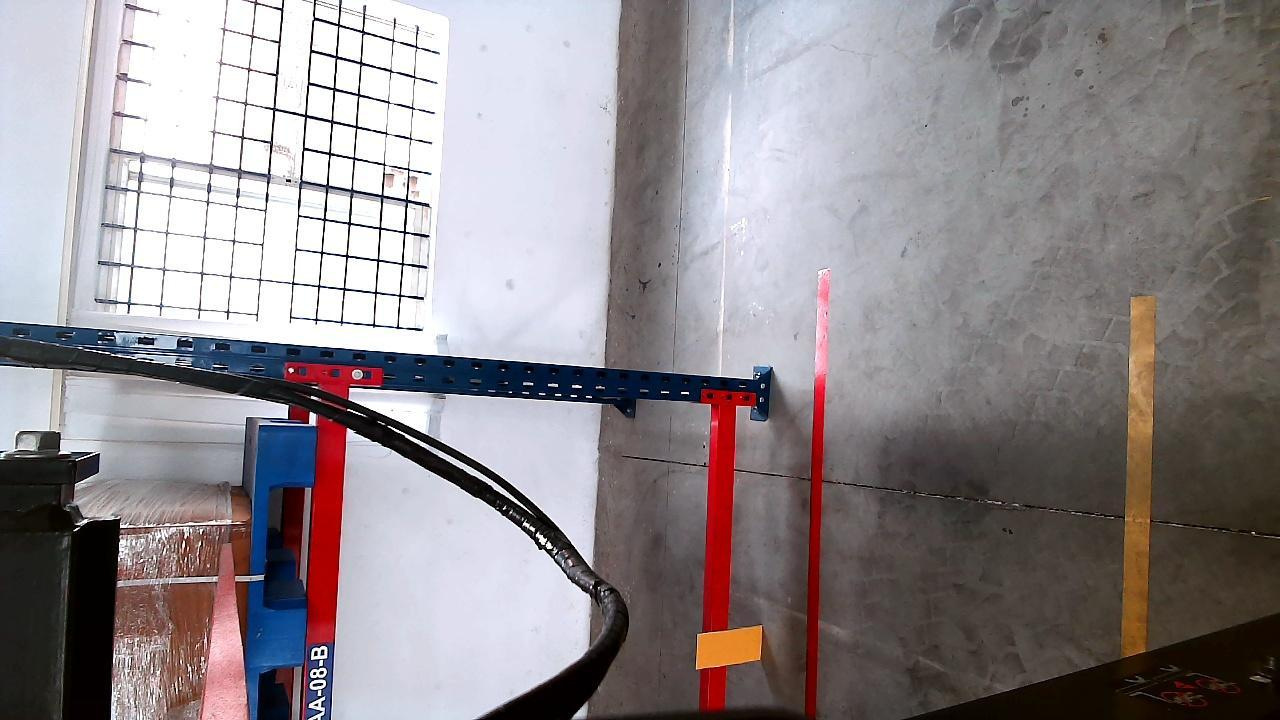red_line: (805, 273, 829, 720)
yellow_line: (1124, 291, 1158, 652)
